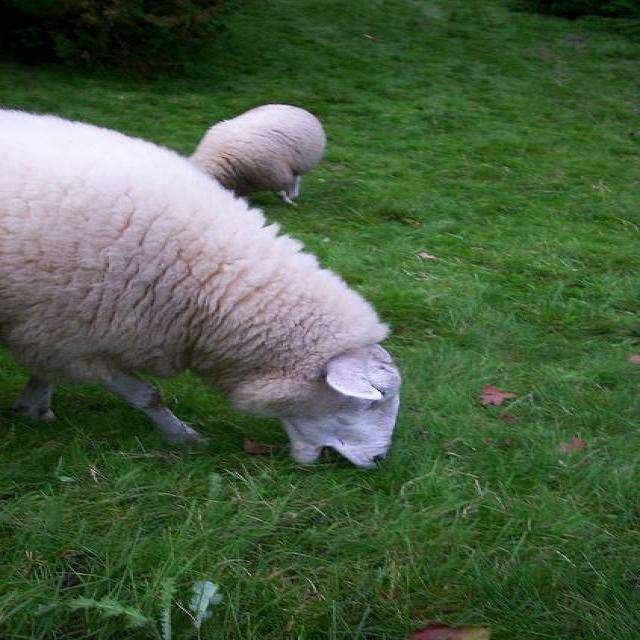Sheep: (0, 109, 398, 472), (184, 105, 324, 205)
